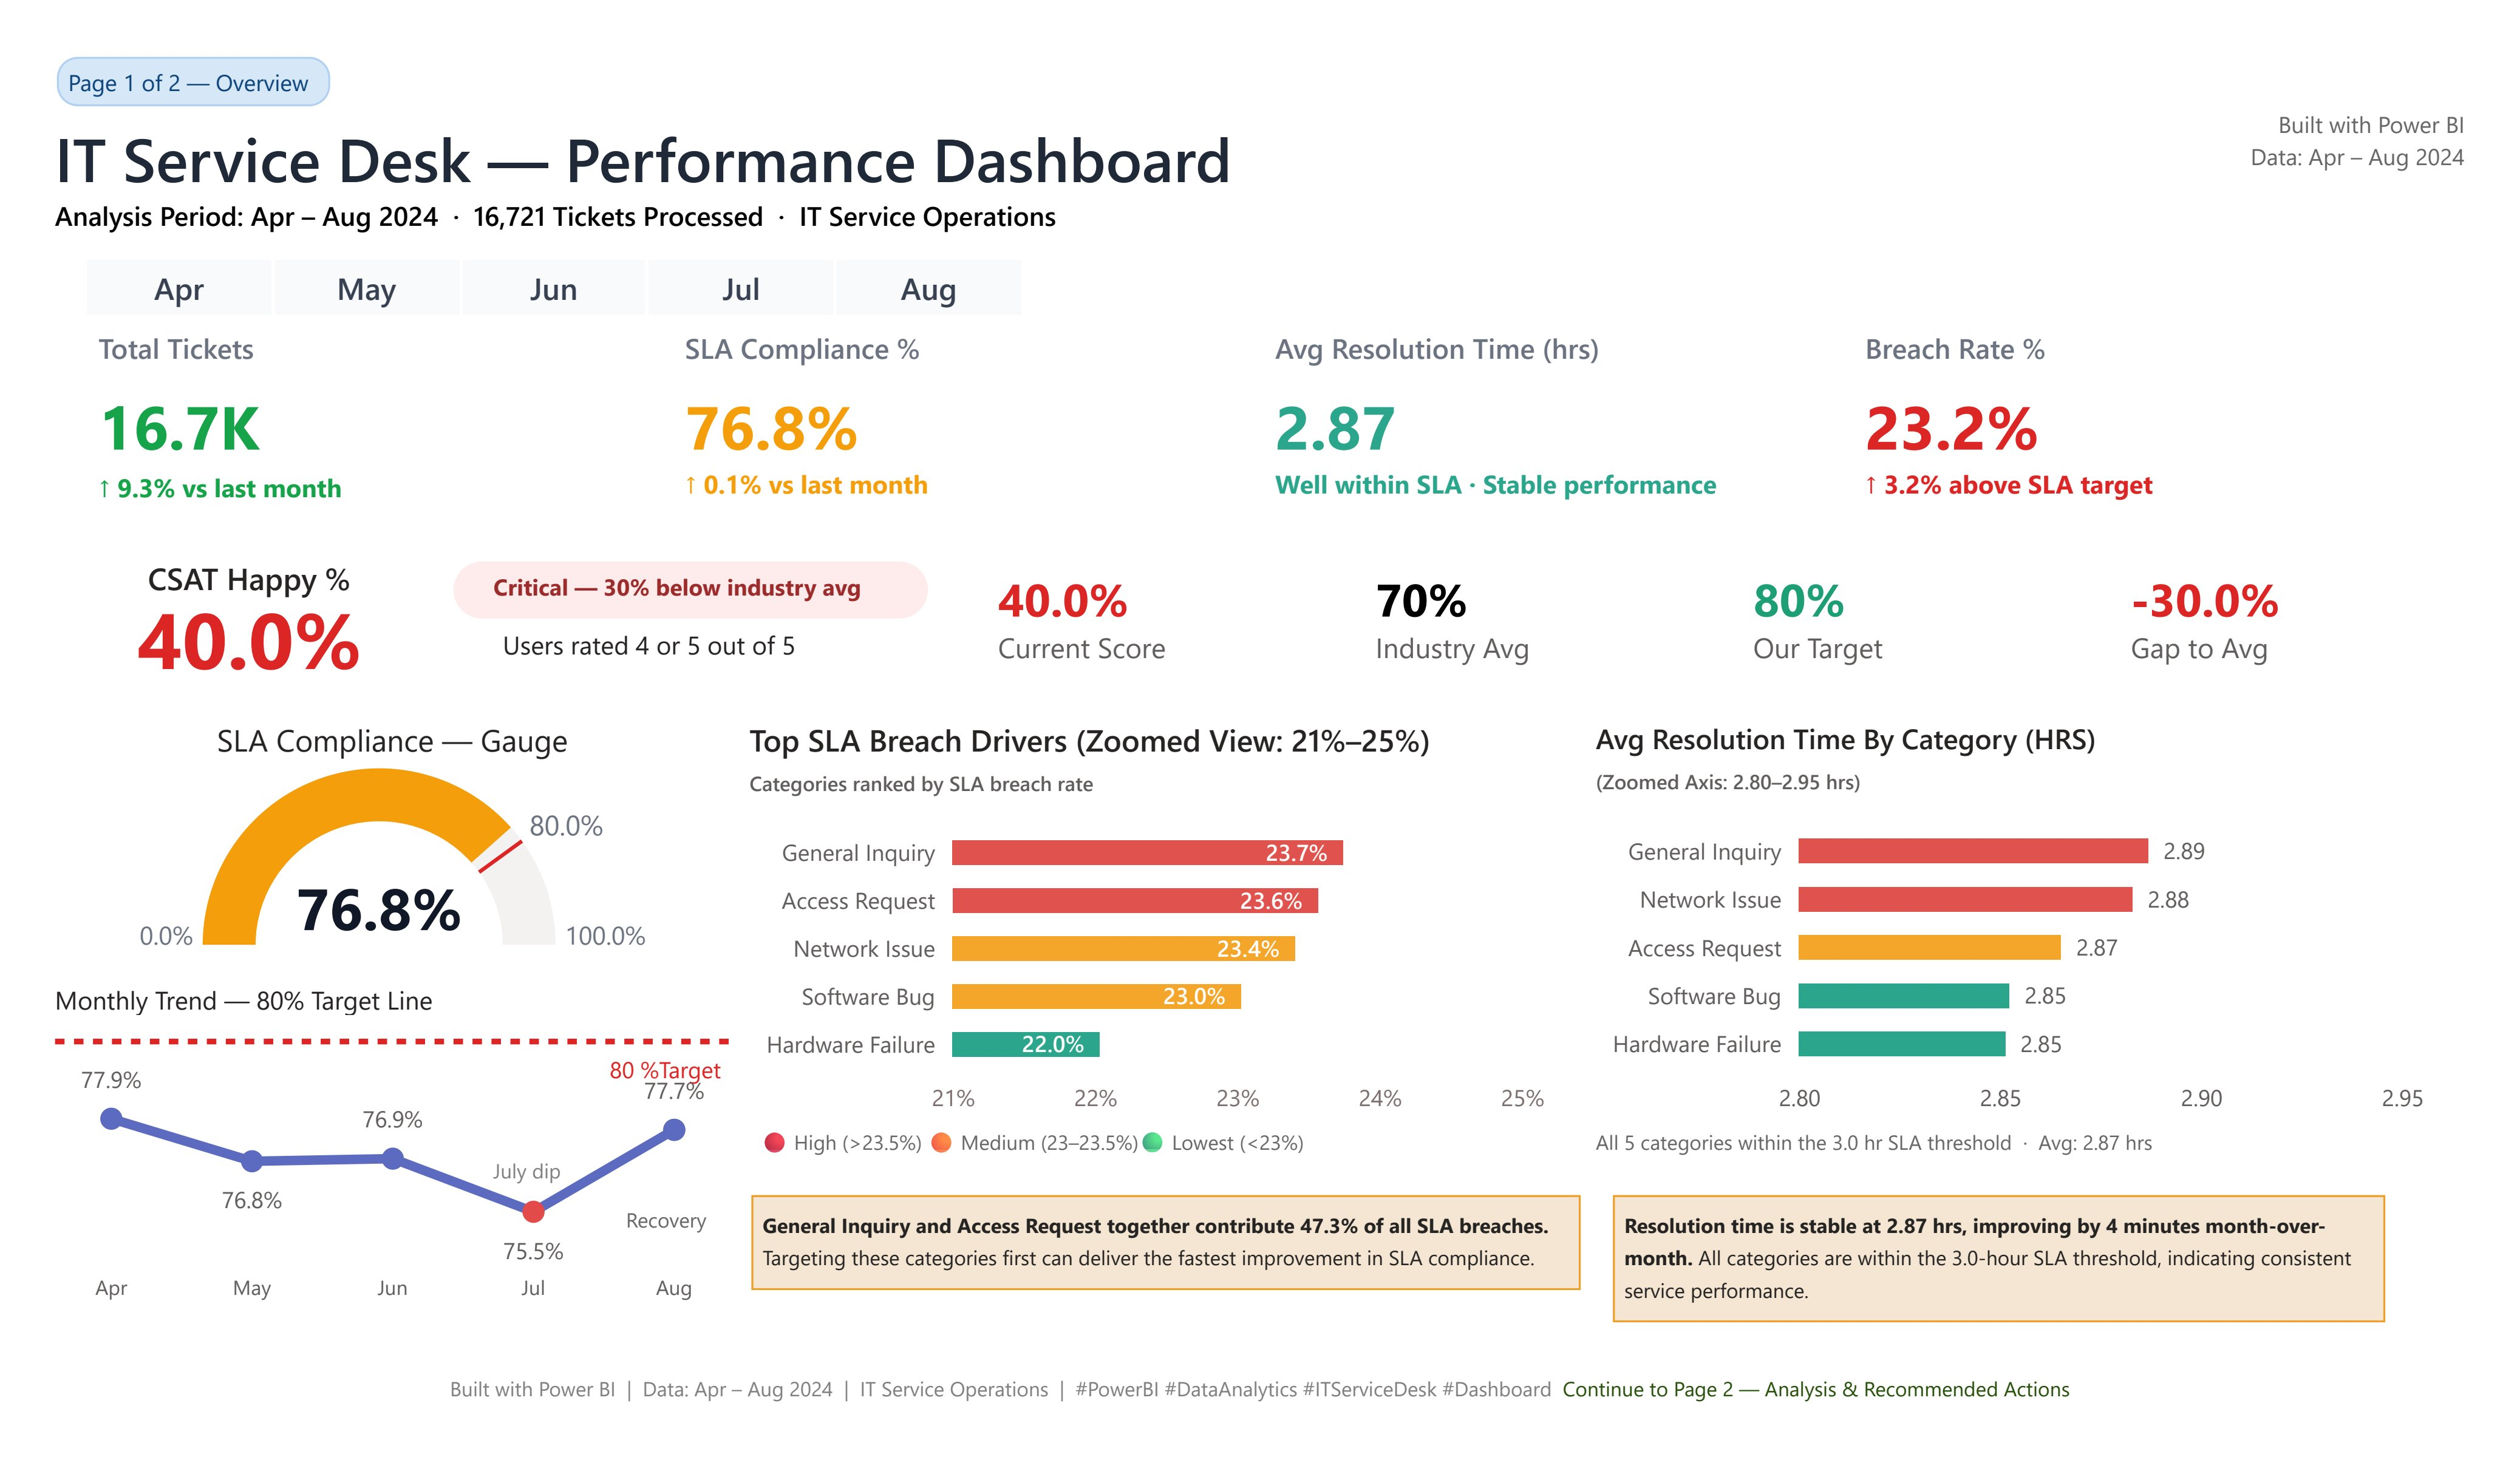

Layout of this report page (visuals, bound fields, positions):
{"tool":"powerbi","page":{"name":"Page 1","canvas":[1280,720],"ordinal":0},"visuals":[{"type":"clusteredBarChart","title":"Avg Resolution Time By Category (HRS)","fields":{"Category":["IT.topic"],"Y":["IT.Average Resolution Time (hrs)"]},"box":[811.7,355.4,468.3,217.3],"z":0},{"type":"textbox","box":[0,32.5,702.5,74.8],"z":1000},{"type":"slicer","fields":{"Values":["Date Table.Month Short"]},"box":[0,107.3,534.5,40.9],"z":3000},{"type":"lineChart","title":"Monthly Trend — 80% Target Line","fields":{"Y":["IT.SLA Compliance %"],"Category":["Date Table.Month Short"]},"box":[0,494.4,365.7,178.6],"z":4000},{"type":"barChart","title":"Top SLA Breach Drivers (Zoomed View: 21%–25%)","fields":{"Category":["IT.topic"],"Y":["IT.SLA Breach %"]},"box":[365.9,355.4,429,217.3],"z":5000},{"type":"cardVisual","fields":{"Data":["IT.Total Tickets","IT.SLA Compliance %","IT.Average Resolution Time (hrs)","IT.Breach Rate %"]},"box":[0,148.6,1280,112.2],"z":6000},{"type":"gauge","title":"SLA Compliance — Gauge","fields":{"Y":["IT.SLA Compliance %"],"MaxValue":["SLA Split.Gauge Max"],"MinValue":["SLA Split.Gauge Min"],"TargetValue":["SLA Split.SLA Target %"]},"box":[0,355.4,365.9,128.3],"z":7000},{"type":"textbox","box":[1150.8,26.8,129.2,56.5],"z":8000},{"type":"card","title":"CSAT Happy %","fields":{"Values":["IT.CSAT Happy %"]},"box":[0,260.9,215.2,73.8],"z":9000},{"type":"cardVisual","fields":{"Data":["IT.CSAT Happy %","IT.CSAT Industry Avg","IT.CSAT Target","IT.CSAT Gap to Avg"]},"box":[464.9,260.9,815.1,73.8],"z":10000},{"type":"textbox","box":[6.4,5.6,143.3,26.8],"z":11000},{"type":"textbox","box":[0,693.3,1280,27],"z":12000},{"type":"card","fields":{"Values":["IT.CSAT Status Text"]},"box":[215.2,272.2,249.7,29.5],"z":13000},{"type":"textbox","box":[235.6,301.7,196.2,29.5],"z":14000},{"type":"textbox","box":[372.4,606,436.5,50.4],"z":15000},{"type":"textbox","box":[825.8,605.7,407.3,67.3],"z":16000},{"type":"textbox","box":[230.7,578.1,49.2,27.4],"z":17000},{"type":"textbox","box":[300.7,603.5,65.2,27.3],"z":18000},{"type":"textbox","box":[811.6,562.6,306.6,33.8],"z":19000},{"type":"textbox","box":[372,562.6,398.1,35.2],"z":26000}]}

Visuals, with their boxes on the page's 1280x720 design canvas (x1, y1, x2, y2). These are canvas units, not pixel positions in the 2520x1457 screenshot, which may show the page scaled, cropped or inside an application window:
"Avg Resolution Time By Category (HRS)" clusteredBarChart: (x1=812, y1=355, x2=1280, y2=573)
textbox: (x1=0, y1=32, x2=702, y2=107)
slicer - Date Table.Month Short: (x1=0, y1=107, x2=534, y2=148)
"Monthly Trend — 80% Target Line" lineChart: (x1=0, y1=494, x2=366, y2=673)
"Top SLA Breach Drivers (Zoomed View: 21%–25%)" barChart: (x1=366, y1=355, x2=795, y2=573)
cardVisual - IT.Total Tickets x IT.SLA Compliance %: (x1=0, y1=149, x2=1280, y2=261)
"SLA Compliance — Gauge" gauge: (x1=0, y1=355, x2=366, y2=484)
textbox: (x1=1151, y1=27, x2=1280, y2=83)
"CSAT Happy %" card: (x1=0, y1=261, x2=215, y2=335)
cardVisual - IT.CSAT Happy % x IT.CSAT Industry Avg: (x1=465, y1=261, x2=1280, y2=335)
textbox: (x1=6, y1=6, x2=150, y2=32)
textbox: (x1=0, y1=693, x2=1280, y2=720)
card - IT.CSAT Status Text: (x1=215, y1=272, x2=465, y2=302)
textbox: (x1=236, y1=302, x2=432, y2=331)
textbox: (x1=372, y1=606, x2=809, y2=656)
textbox: (x1=826, y1=606, x2=1233, y2=673)
textbox: (x1=231, y1=578, x2=280, y2=606)
textbox: (x1=301, y1=604, x2=366, y2=631)
textbox: (x1=812, y1=563, x2=1118, y2=596)
textbox: (x1=372, y1=563, x2=770, y2=598)
